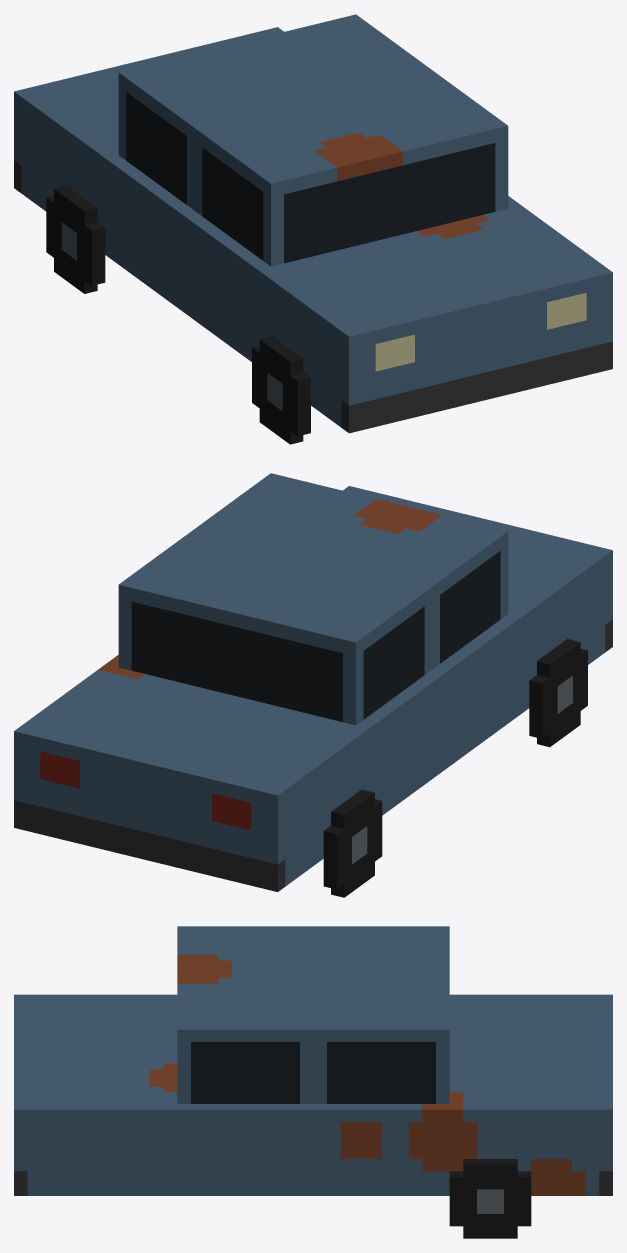
File: prop_car.glb
3 views of the same model, one above another, from view 1: azimuth 30°, elevation 25°; view 2: azimuth 150°, elevation 25°; view 3: azimuth 270°, elevation 25° (orthographic). The views are drawn at different scales.
Parts seen in each view (by area): view 1: prop_car; view 2: prop_car; view 3: prop_car.
Boxes of the visible parts, x1=… form: prop_car: x1=14, y1=14, x2=612, y2=444; prop_car: x1=14, y1=473, x2=612, y2=897; prop_car: x1=14, y1=926, x2=612, y2=1238.
Size of the model in its own units: 2.2 by 1.6 by 4.4.
